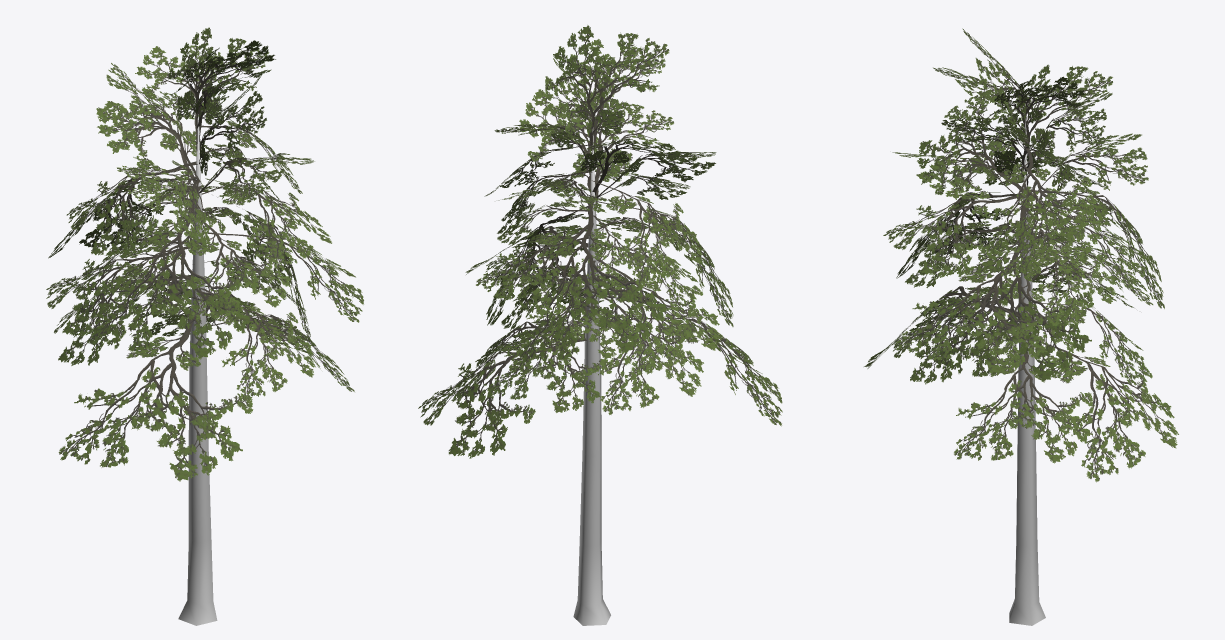
The model's file is Pine01.fbx.
3 renders of one model, left to right at view 1: azimuth 30°, elevation 25°; view 2: azimuth 150°, elevation 25°; view 3: azimuth 270°, elevation 25°, orthographic. The views are drawn at different scales.
Parts seen in each view (by area): view 1: Pine01; view 2: Pine01; view 3: Pine01.
Part boxes in pixels (x1,y1,x2,y2): Pine01: (46,27,363,625); Pine01: (418,25,782,625); Pine01: (864,28,1178,625).
Bounding box in the file's own units: 1750 × 2799 × 1685.
